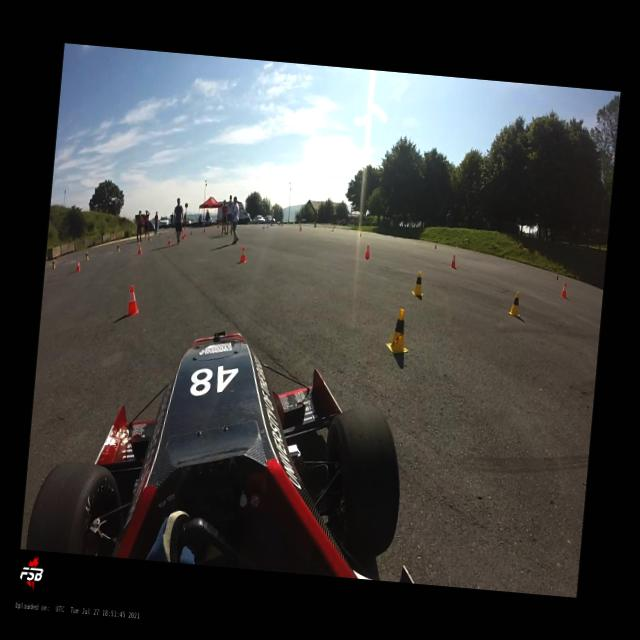orange_cone: (126, 284, 140, 316), (240, 246, 247, 262), (449, 254, 456, 268), (364, 244, 370, 259), (560, 282, 566, 297), (76, 258, 82, 270), (138, 243, 142, 254), (168, 236, 170, 244), (182, 234, 185, 238), (203, 229, 205, 233), (190, 230, 192, 234), (174, 230, 176, 234), (184, 231, 185, 236)
yellow_cone: (385, 307, 412, 355), (506, 290, 522, 316), (411, 271, 425, 296), (51, 258, 56, 268), (116, 243, 120, 251), (85, 250, 88, 260), (137, 238, 139, 244), (300, 226, 302, 232), (149, 237, 151, 241), (160, 232, 160, 236)
